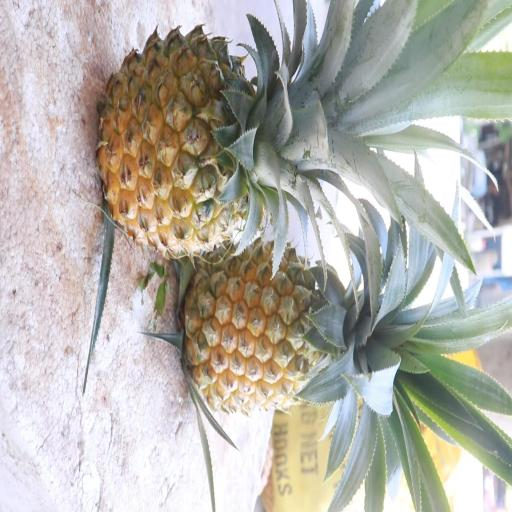Pineapple - v8 v1: (94, 18, 338, 263), (178, 230, 393, 419)
